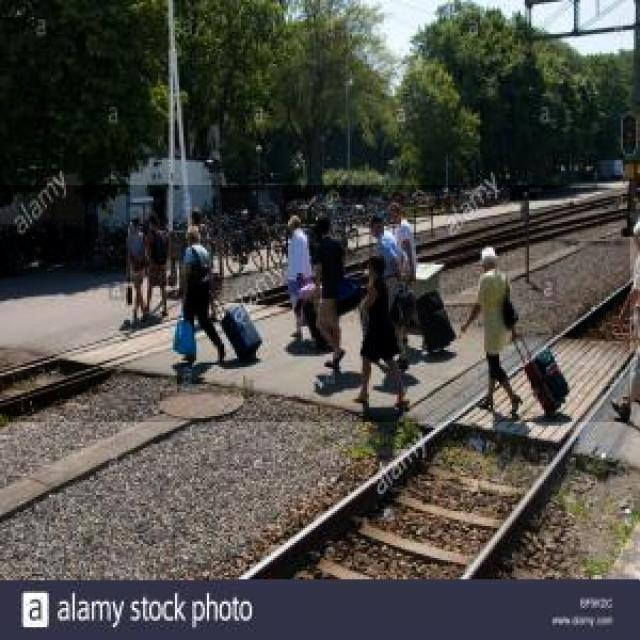rail: (1, 186, 631, 423), (222, 254, 640, 585)
